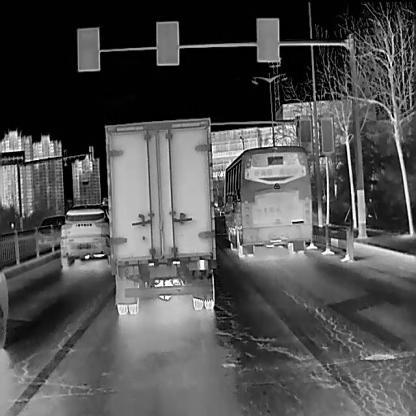car: (103, 116, 216, 315), (217, 145, 313, 257), (59, 203, 110, 268), (34, 215, 67, 249)
